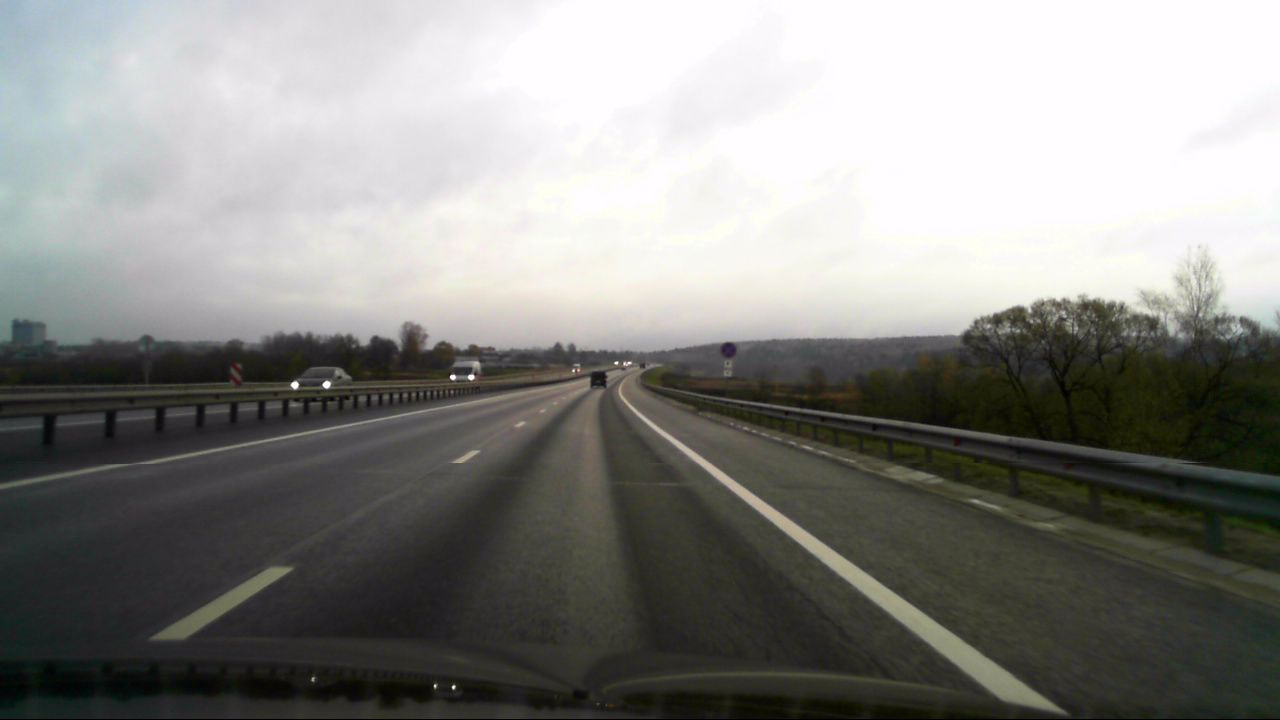No Parking: (720, 342, 736, 358)
